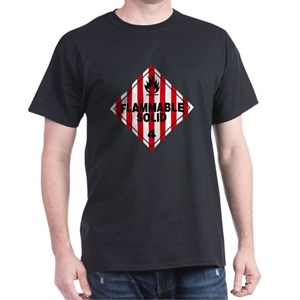FlammableSolid: (112, 66, 194, 149)
